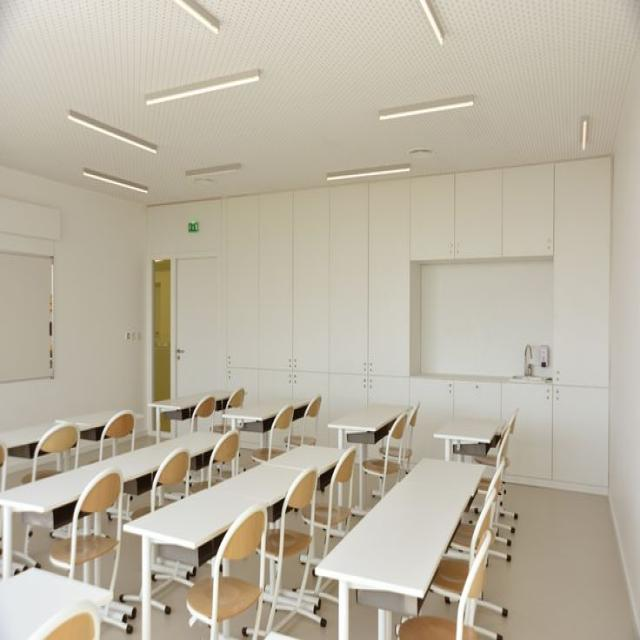obstacle: (127, 443, 355, 640), (314, 456, 486, 639), (0, 441, 229, 574), (327, 402, 409, 516), (196, 511, 270, 637), (264, 464, 316, 640)
